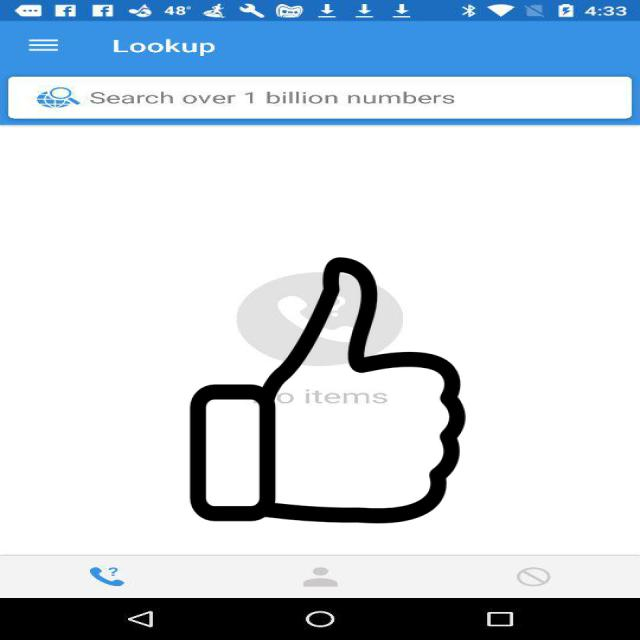privacy zuckering: (186, 257, 469, 524)
